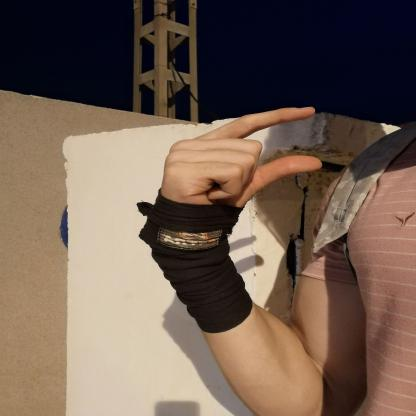DELL: (147, 95, 332, 239)
